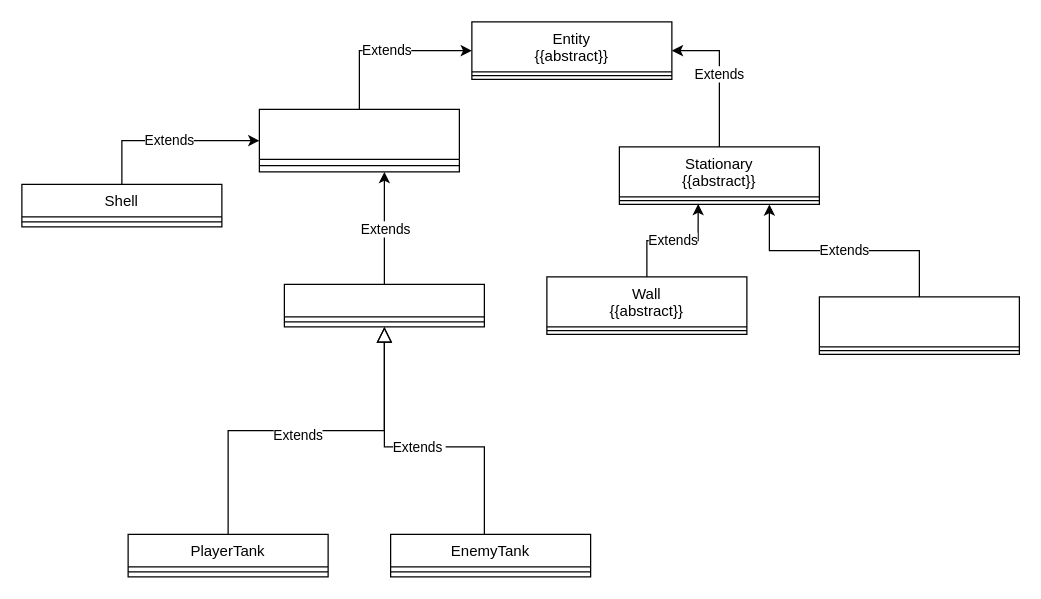
The diagram is 1041 pixels wide and 599 high, and some of its shapes have lost their labels. Here are the shapes that lost their labels. From the top down, the centre of each, then its label:
At (x=358, y=140): "Movable {{abstract}}".
At (x=383, y=305): "Tank".
At (x=918, y=325): "PowerUp {{abstract}}".
